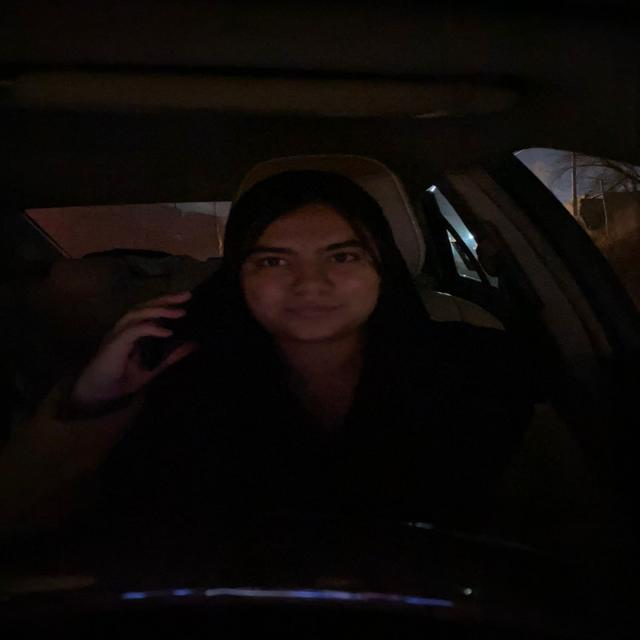mobile: (135, 264, 240, 381)
person: (215, 162, 402, 350)
